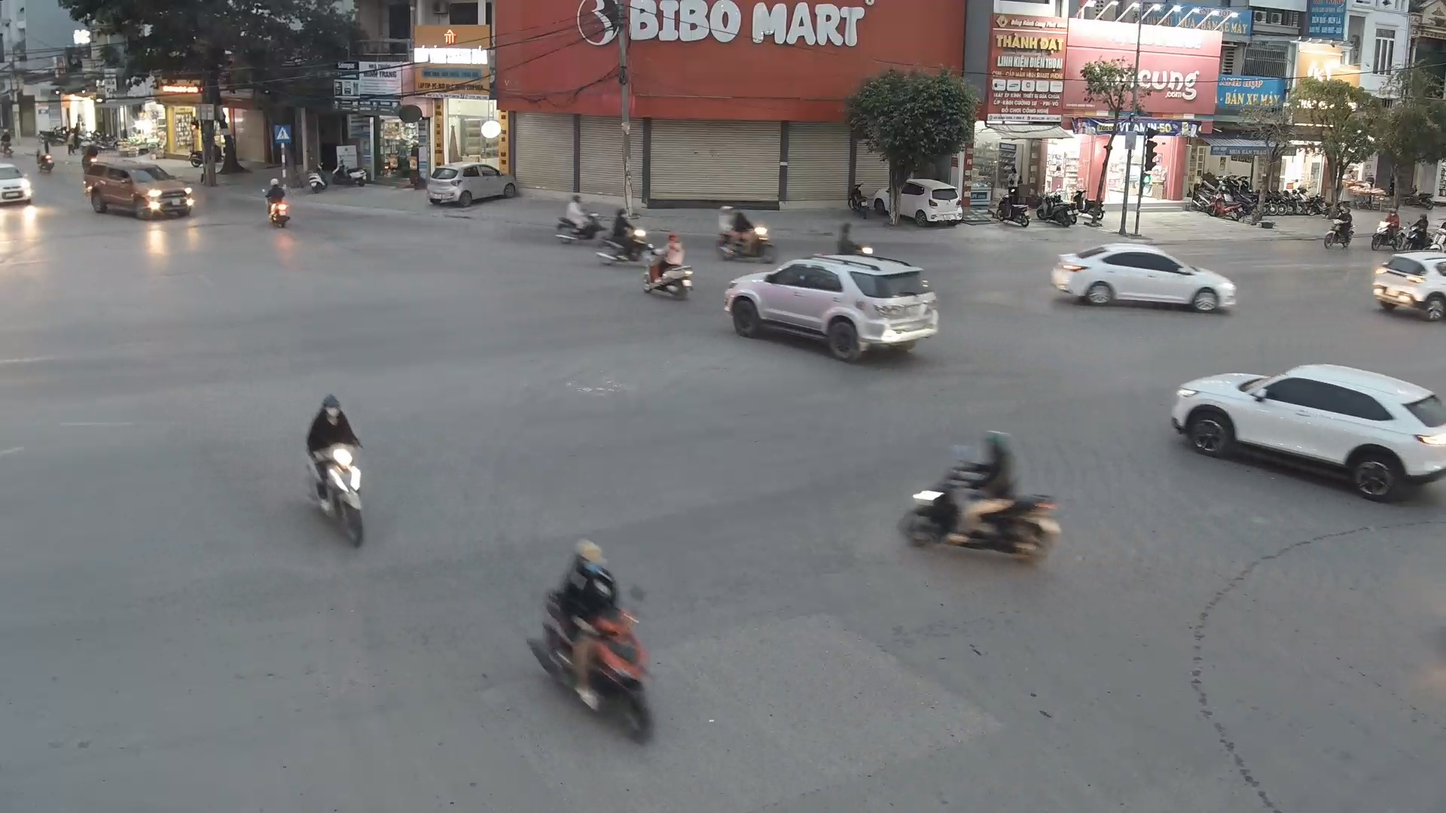car: (1169, 360, 1445, 504), (723, 252, 941, 364), (1050, 239, 1238, 314), (87, 161, 194, 221), (1371, 247, 1445, 324), (426, 163, 522, 209), (0, 160, 34, 208)
motorbike: (524, 538, 658, 744), (898, 429, 1062, 566), (301, 393, 372, 547), (593, 205, 656, 268), (641, 232, 696, 301), (553, 193, 607, 247), (264, 180, 292, 230)
